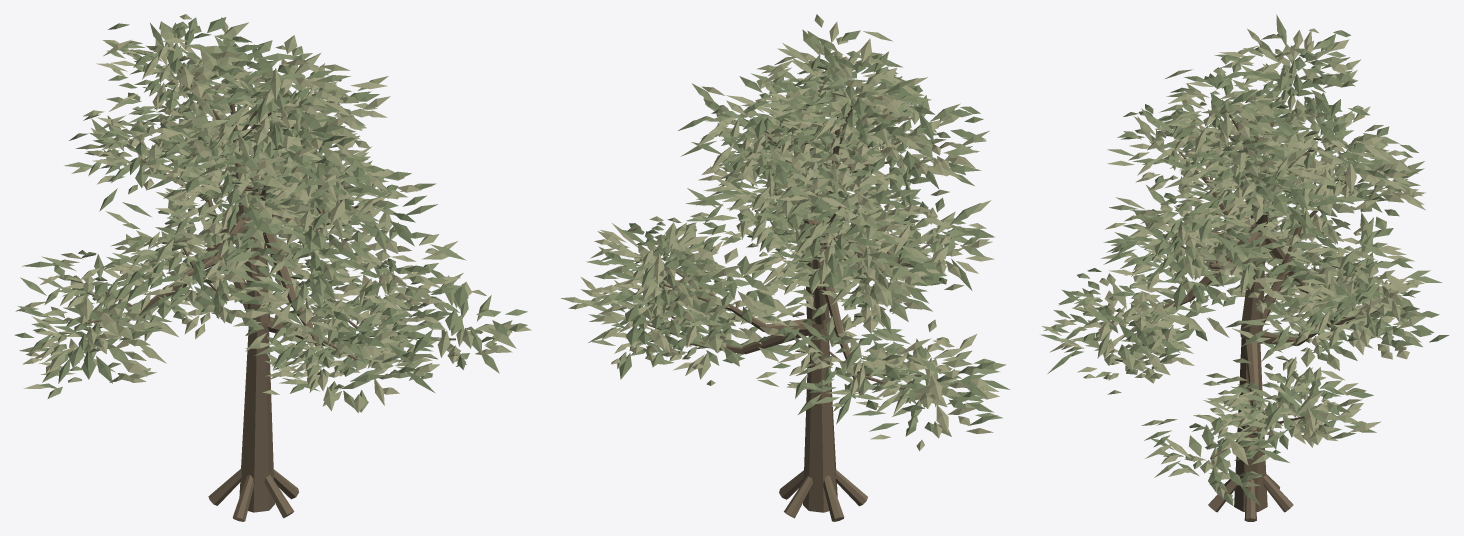
File: DesertJuniper.glb
The picture shows the model from 3 angles, left to right: view 1: azimuth 30°, elevation 25°; view 2: azimuth 150°, elevation 25°; view 3: azimuth 270°, elevation 25°; orthographic projection. The views are drawn at different scales.
Visible parts, largest first — view 1: DesertJuniper; view 2: DesertJuniper; view 3: DesertJuniper.
Boxes of the visible parts, box(x1,y1,x2,y2) form: DesertJuniper: box(14, 14, 531, 521); DesertJuniper: box(561, 14, 1010, 521); DesertJuniper: box(1040, 14, 1449, 521).
Size of the model in its own units: 4.23 by 4.24 by 3.57.
